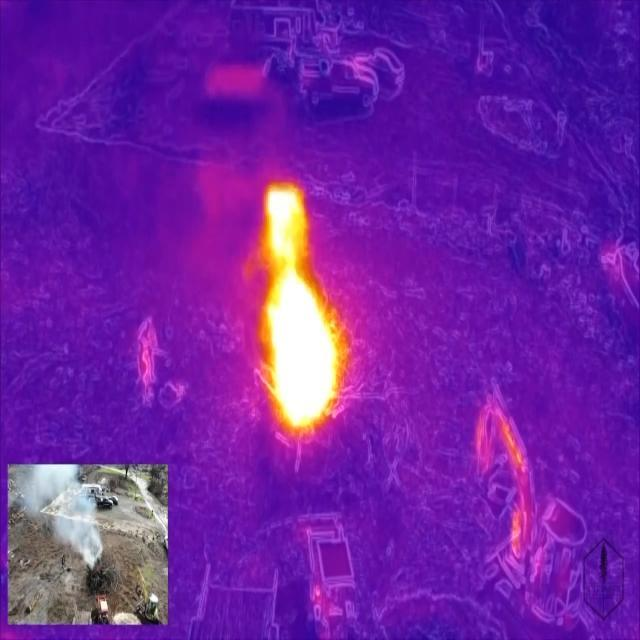fire: (262, 182, 343, 436)
